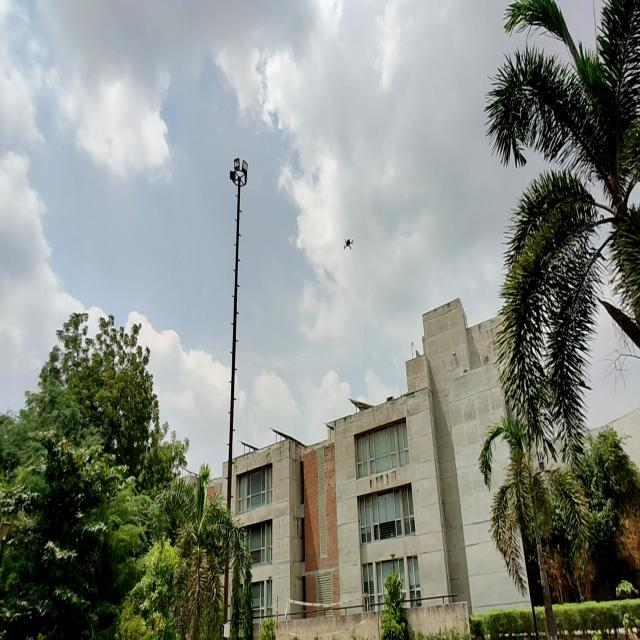drone: (340, 230, 357, 256)
